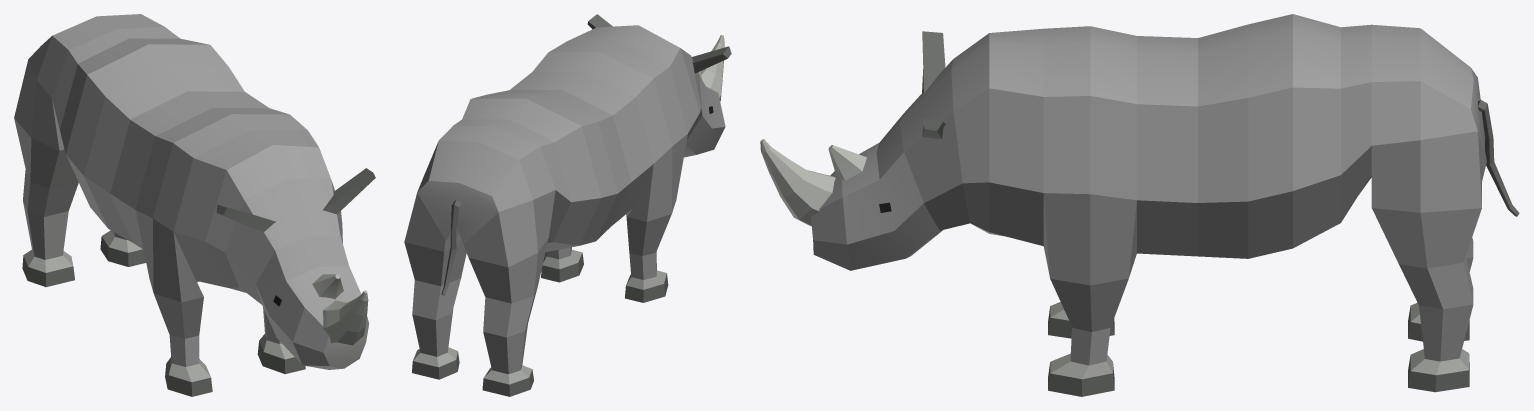
The model's file is animals-rhinoceros-169.glb.
3 renders of one model, left to right at view 1: azimuth 30°, elevation 25°; view 2: azimuth 150°, elevation 25°; view 3: azimuth 270°, elevation 25°, orthographic. The views are drawn at different scales.
Parts seen in each view (by area): view 1: Geo_Rhinoceros; view 2: Geo_Rhinoceros; view 3: Geo_Rhinoceros.
Boxes of the visible parts, bbox=[...] form: Geo_Rhinoceros: bbox=[14, 14, 375, 396]; Geo_Rhinoceros: bbox=[404, 14, 731, 396]; Geo_Rhinoceros: bbox=[760, 14, 1519, 396].
Size of the model in its own units: 79.74 by 122 by 258.
Materials: 1 (1 with a texture image).
